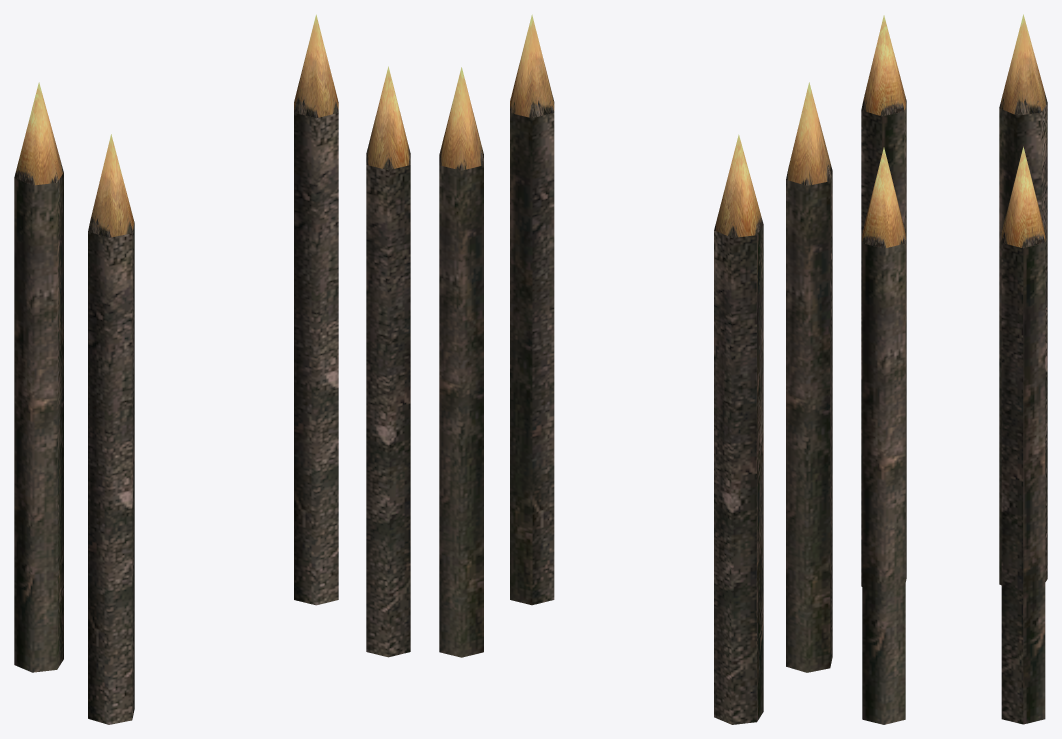
File: building_gatehouse_wooden.glb
The picture shows the model from 3 angles, left to right: view 1: azimuth 30°, elevation 25°; view 2: azimuth 150°, elevation 25°; view 3: azimuth 270°, elevation 25°; orthographic projection. The views are drawn at different scales.
Parts seen in each view (by area): view 1: building_gatehouse_wooden; view 2: building_gatehouse_wooden; view 3: building_gatehouse_wooden.
Part boxes in pixels (x1,y1,x2,y2): building_gatehouse_wooden: (14, 14, 410, 724); building_gatehouse_wooden: (439, 14, 832, 724); building_gatehouse_wooden: (861, 14, 1047, 724).
Size of the model in its own units: 4.11 by 7.09 by 2.11.
2 materials, 2 textured.
